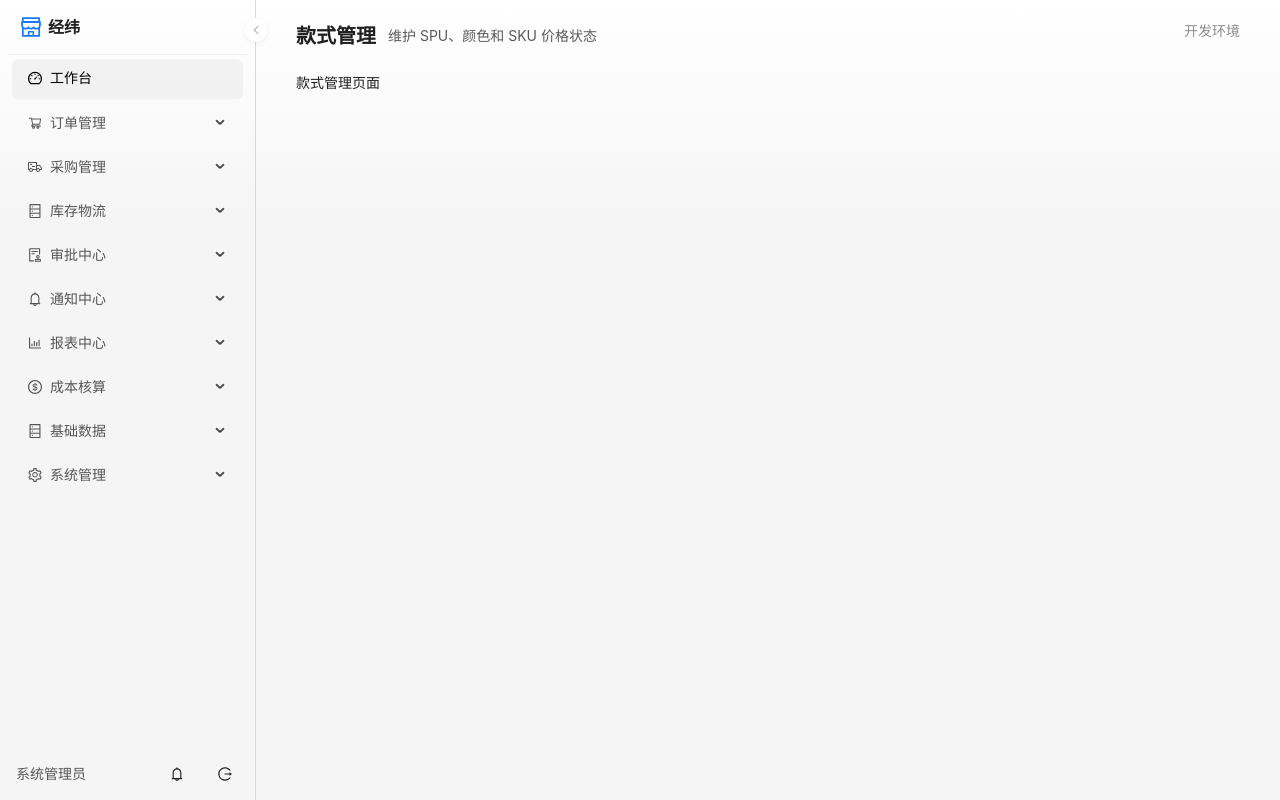
Test: DashboardLayout › shows SPU and size group menus from fallback when backend menu tree is empty
Click the menu item "基础数据" at (67, 430), box top-left (28, 422), bottom-right (106, 439)
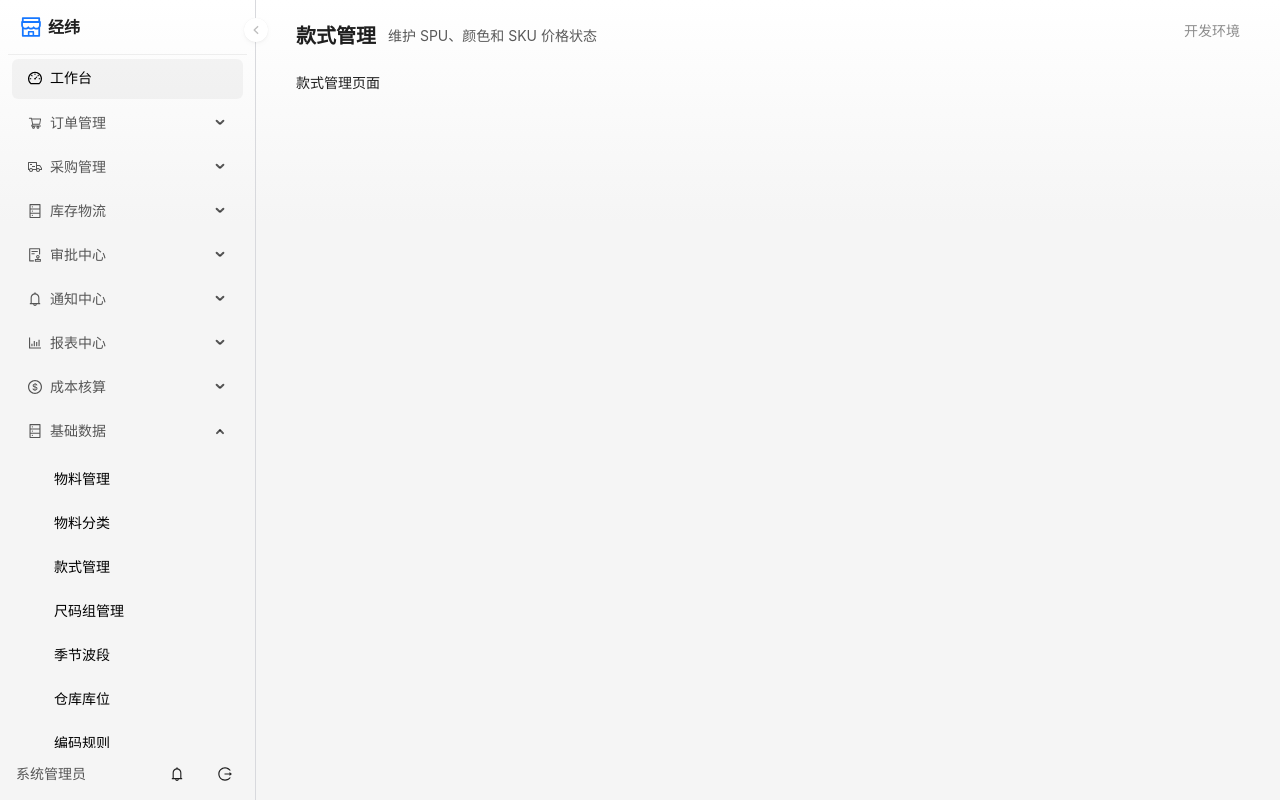
expect the text "款式管理页面" is shown: met, box top-left (296, 74), bottom-right (380, 91)
expect the text "款式管理" is shown 2 times: met, box top-left (54, 558), bottom-right (110, 575); top-left (296, 20), bottom-right (376, 52)
expect the text "尺码组管理" is shown: met, box top-left (54, 602), bottom-right (124, 619)
